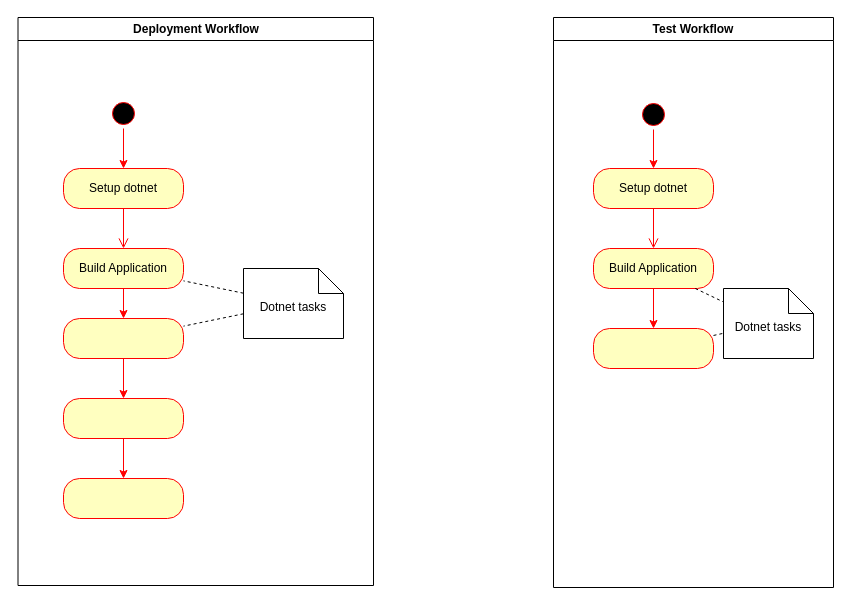
Image size: 851x605. Some labels were removed from this diagram. Each missing label, with the centre of its shape:
"Deploy to Azure App Service" belongs at (x=123, y=498).
"Publish Application" belongs at (x=123, y=338).
"Publish release to GitHub" belongs at (x=123, y=418).
"Test Applicaiton" belongs at (x=653, y=348).
